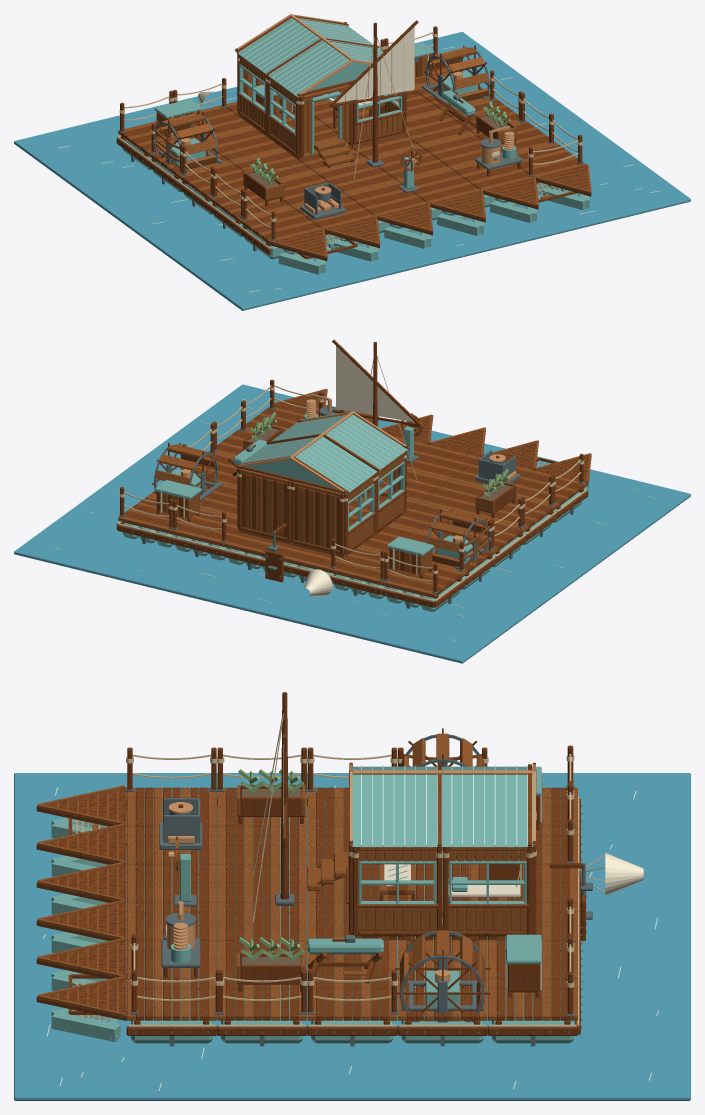
File: ocean-raft-settlement-ocean-raft-settlem-2e9902c0-starter-scene__28923.glb
The picture shows the model from 3 angles, top to bottom: view 1: azimuth 30°, elevation 25°; view 2: azimuth 150°, elevation 25°; view 3: azimuth 270°, elevation 25°; orthographic projection. The views are drawn at different scales.
Visible parts, largest first — view 1: 000-ocean-raft-settlement-ocean-display-base/water, 066-ocean-raft-settlement-cabin-roof/teal, 065-ocean-raft-settlement-cabin-roof/teal, 073-ocean-raft-settlement-sail-mast/canvas, 076-ocean-raft-settlement-paddlewheel-drive/pale, 075-ocean-raft-settlement-paddlewheel-drive/pale, 073-ocean-raft-settlement-sail-mast/wood, 065-ocean-raft-settlement-cabin-roof/foam, 066-ocean-raft-settlement-cabin-roof/foam, 025-ocean-raft-settlement-buoyant-square-foundation/wood, 021-ocean-raft-settlement-buoyant-square-foundation/wood, 027-ocean-raft-settlement-buoyant-square-foundation/wood (+67 smaller); view 2: 000-ocean-raft-settlement-ocean-display-base/water, 065-ocean-raft-settlement-cabin-roof/teal, 066-ocean-raft-settlement-cabin-roof/teal, 073-ocean-raft-settlement-sail-mast/canvas, 057-ocean-raft-settlement-cabin-wall/wood, 059-ocean-raft-settlement-cabin-wall/wood, 075-ocean-raft-settlement-paddlewheel-drive/pale, 059-ocean-raft-settlement-cabin-wall/pale, 057-ocean-raft-settlement-cabin-wall/pale, 076-ocean-raft-settlement-paddlewheel-drive/pale, 065-ocean-raft-settlement-cabin-roof/foam, 066-ocean-raft-settlement-cabin-roof/foam (+40 smaller); view 3: 000-ocean-raft-settlement-ocean-display-base/water, 065-ocean-raft-settlement-cabin-roof/teal, 066-ocean-raft-settlement-cabin-roof/teal, 062-ocean-raft-settlement-cabin-window-wall/pale, 064-ocean-raft-settlement-cabin-window-wall/pale, 018-ocean-raft-settlement-buoyant-square-foundation/wood, 030-ocean-raft-settlement-buoyant-square-foundation/wood, 024-ocean-raft-settlement-buoyant-square-foundation/wood, 022-ocean-raft-settlement-buoyant-square-foundation/wood, 006-ocean-raft-settlement-buoyant-square-foundation/wood, 027-ocean-raft-settlement-buoyant-square-foundation/wood, 076-ocean-raft-settlement-paddlewheel-drive/pale (+94 smaller).
Part boxes in pixels (x1,y1,x2,y2): 000-ocean-raft-settlement-ocean-display-base/water: [14, 32, 690, 310]; 066-ocean-raft-settlement-cabin-roof/teal: [266, 41, 383, 96]; 065-ocean-raft-settlement-cabin-roof/teal: [236, 18, 372, 74]; 073-ocean-raft-settlement-sail-mast/canvas: [336, 27, 414, 102]; 076-ocean-raft-settlement-paddlewheel-drive/pale: [428, 47, 488, 101]; 075-ocean-raft-settlement-paddlewheel-drive/pale: [156, 113, 216, 169]; 073-ocean-raft-settlement-sail-mast/wood: [329, 20, 418, 162]; 065-ocean-raft-settlement-cabin-roof/foam: [238, 17, 372, 71]; 066-ocean-raft-settlement-cabin-roof/foam: [269, 40, 382, 93]; 025-ocean-raft-settlement-buoyant-square-foundation/wood: [243, 209, 318, 245]; 021-ocean-raft-settlement-buoyant-square-foundation/wood: [318, 162, 394, 192]; 027-ocean-raft-settlement-buoyant-square-foundation/wood: [349, 183, 424, 214]; 000-ocean-raft-settlement-ocean-display-base/water: [14, 384, 690, 663]; 065-ocean-raft-settlement-cabin-roof/teal: [241, 437, 376, 492]; 066-ocean-raft-settlement-cabin-roof/teal: [268, 414, 407, 471]; 073-ocean-raft-settlement-sail-mast/canvas: [336, 346, 414, 422]; 057-ocean-raft-settlement-cabin-wall/wood: [291, 481, 344, 554]; 059-ocean-raft-settlement-cabin-wall/wood: [238, 468, 291, 541]; 075-ocean-raft-settlement-paddlewheel-drive/pale: [427, 510, 487, 566]; 059-ocean-raft-settlement-cabin-wall/pale: [241, 469, 287, 536]; 057-ocean-raft-settlement-cabin-wall/pale: [294, 481, 340, 549]; 076-ocean-raft-settlement-paddlewheel-drive/pale: [155, 444, 215, 493]; 065-ocean-raft-settlement-cabin-roof/foam: [242, 438, 373, 489]; 066-ocean-raft-settlement-cabin-roof/foam: [272, 415, 404, 466]; 000-ocean-raft-settlement-ocean-display-base/water: [14, 773, 690, 1100]; 065-ocean-raft-settlement-cabin-roof/teal: [442, 766, 532, 846]; 066-ocean-raft-settlement-cabin-roof/teal: [352, 766, 442, 846]; 062-ocean-raft-settlement-cabin-window-wall/pale: [448, 847, 527, 930]; 064-ocean-raft-settlement-cabin-window-wall/pale: [358, 847, 436, 930]; 018-ocean-raft-settlement-buoyant-square-foundation/wood: [315, 978, 389, 1024]; 030-ocean-raft-settlement-buoyant-square-foundation/wood: [134, 978, 209, 1024]; 024-ocean-raft-settlement-buoyant-square-foundation/wood: [224, 978, 299, 1024]; 022-ocean-raft-settlement-buoyant-square-foundation/wood: [226, 902, 298, 944]; 006-ocean-raft-settlement-buoyant-square-foundation/wood: [495, 978, 570, 1024]; 027-ocean-raft-settlement-buoyant-square-foundation/wood: [135, 864, 208, 906]; 076-ocean-raft-settlement-paddlewheel-drive/pale: [400, 930, 485, 1021].
Size of the model in its own units: 17 by 6.01 by 15.
Materials: 11 (2 with a texture image).
